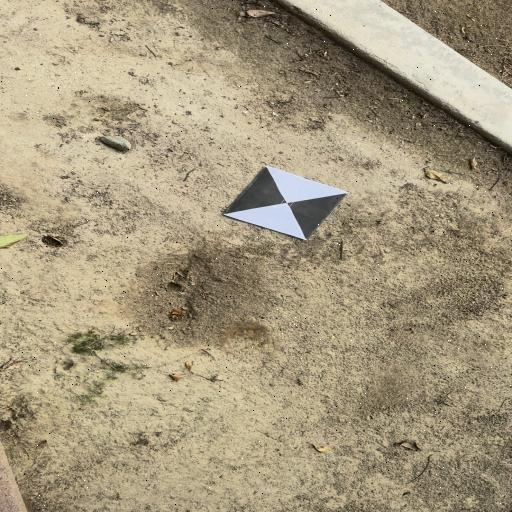target: (223, 166, 347, 240)
